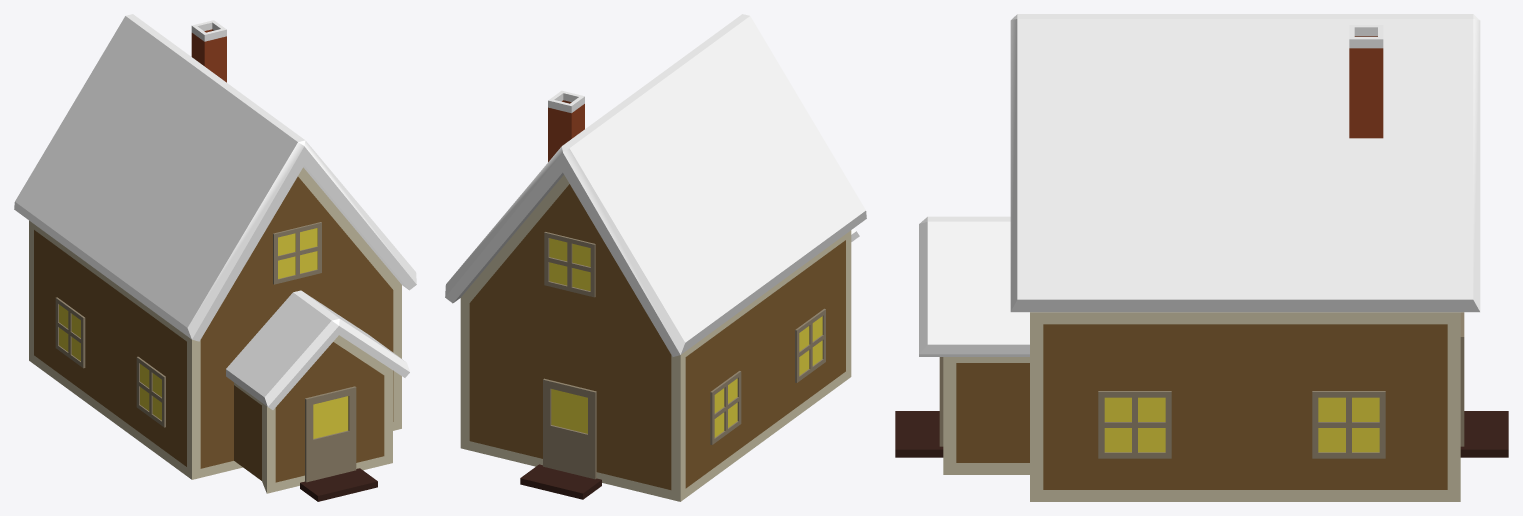
Rendered from House3.fbx.
3 renders of one model, left to right at view 1: azimuth 30°, elevation 25°; view 2: azimuth 150°, elevation 25°; view 3: azimuth 270°, elevation 25°, orthographic. The views are drawn at different scales.
Parts seen in each view (by area): view 1: House3; view 2: House3; view 3: House3.
Part boxes in pixels (<box>): House3: <box>14,14,416,501</box>; House3: <box>445,14,866,501</box>; House3: <box>895,14,1508,501</box>.
Bounding box in the file's own units: 530 × 724 × 932.
